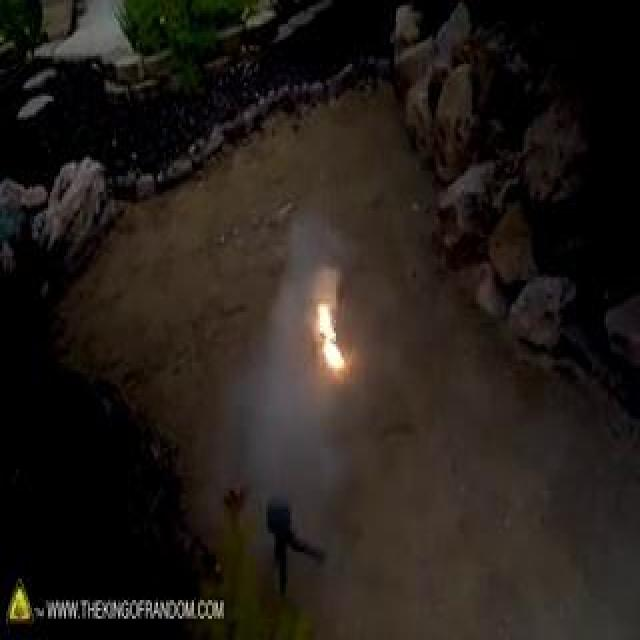Fire: (44, 102, 330, 320)
